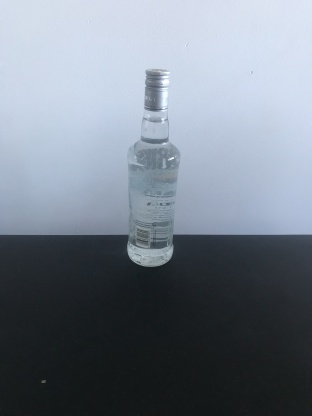nakretka: (142, 66, 171, 113)
